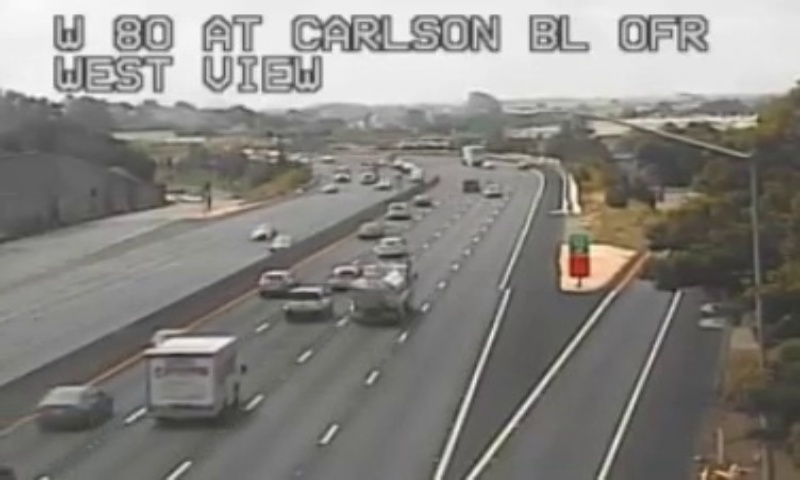car: (36, 386, 108, 425), (282, 286, 329, 316), (259, 270, 293, 294), (376, 236, 404, 256)
small-truck: (146, 333, 238, 418)
tank-truck: (351, 263, 414, 323)
